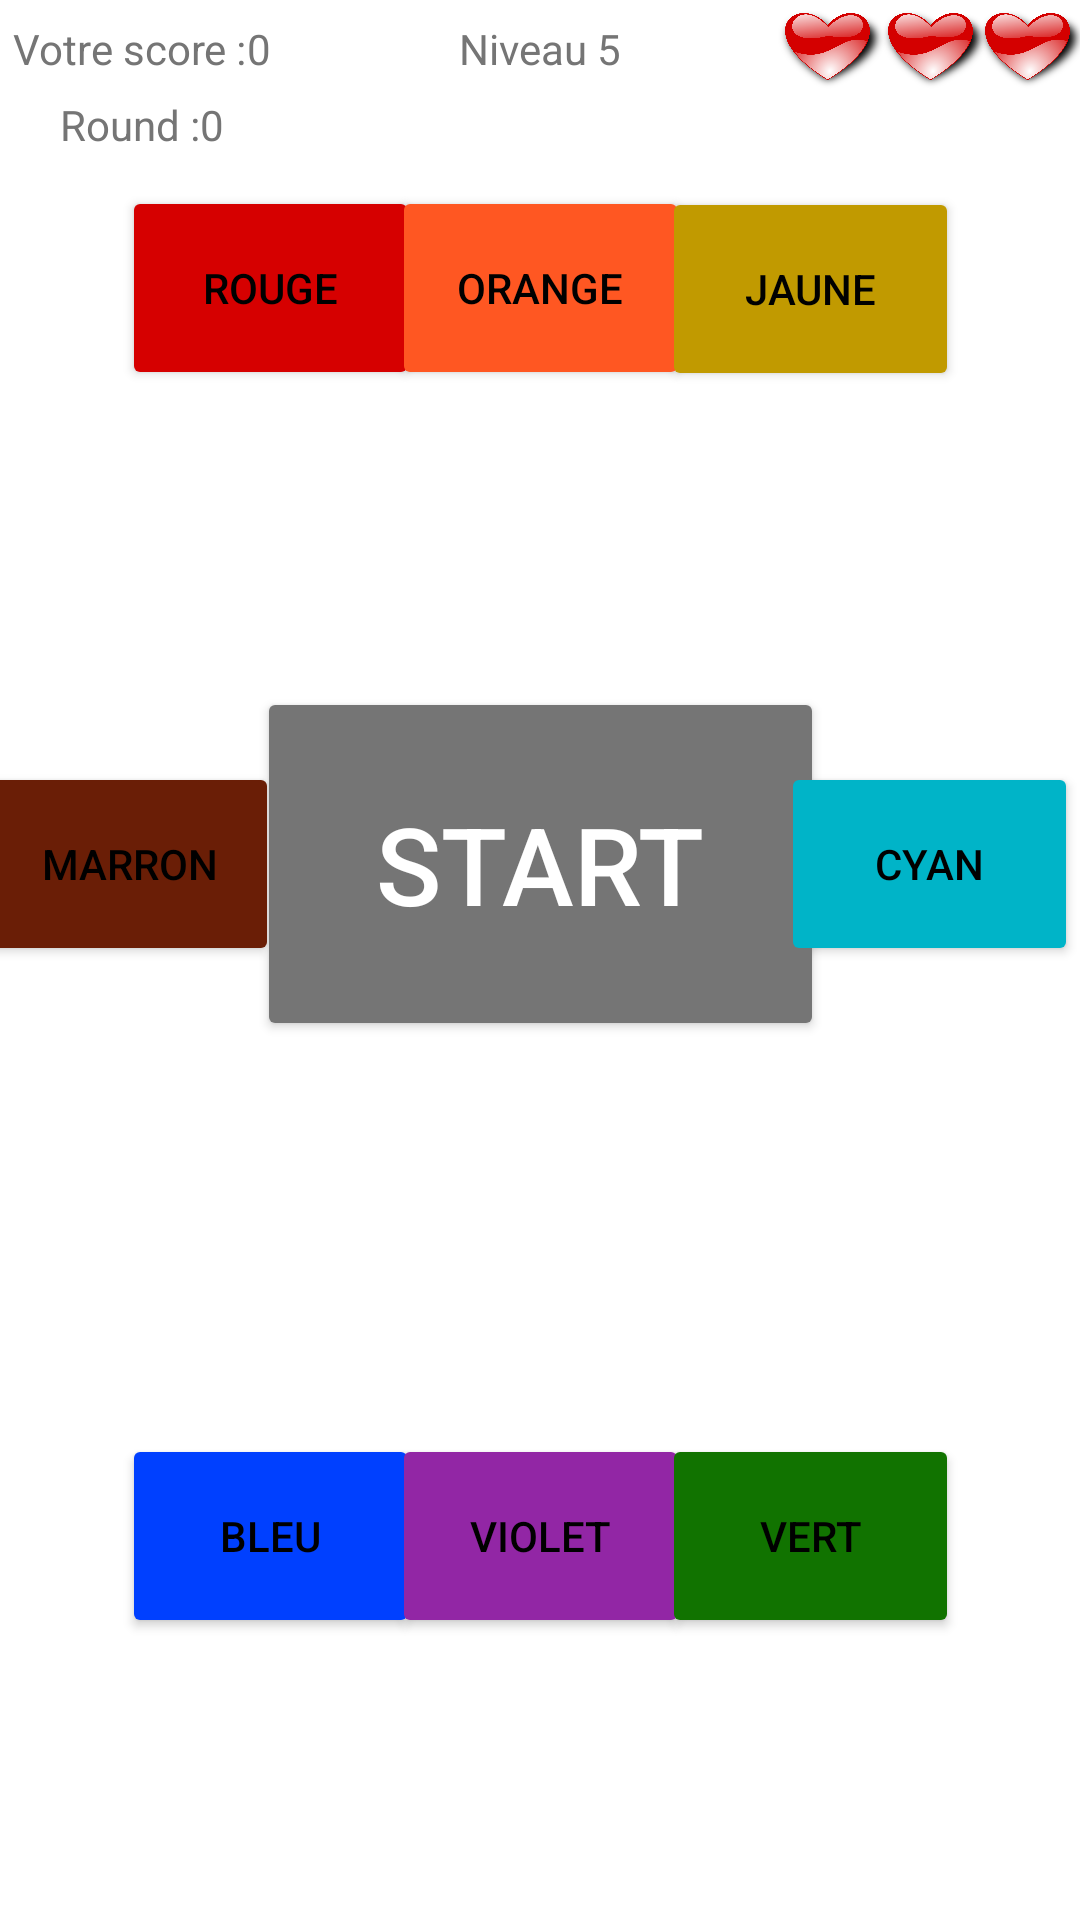

Icon bounding boxes for this 1080px x 1920px phone screenshot, format [x1=x1, y1=y1, x2=x2, y2=y2]:
Image de Coeur pour la vie: [x1=783, y1=13, x2=881, y2=83], [x1=978, y1=13, x2=1080, y2=83]
